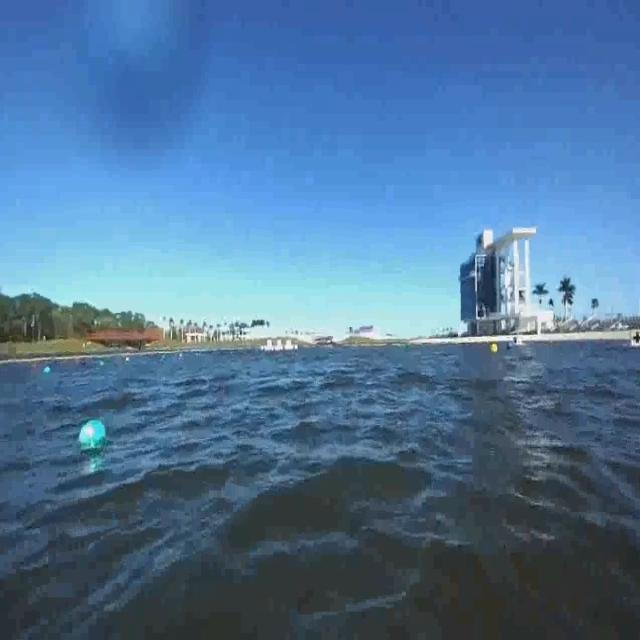green-buoy: (77, 420, 106, 450)
yellow-buoy: (490, 341, 499, 356)
